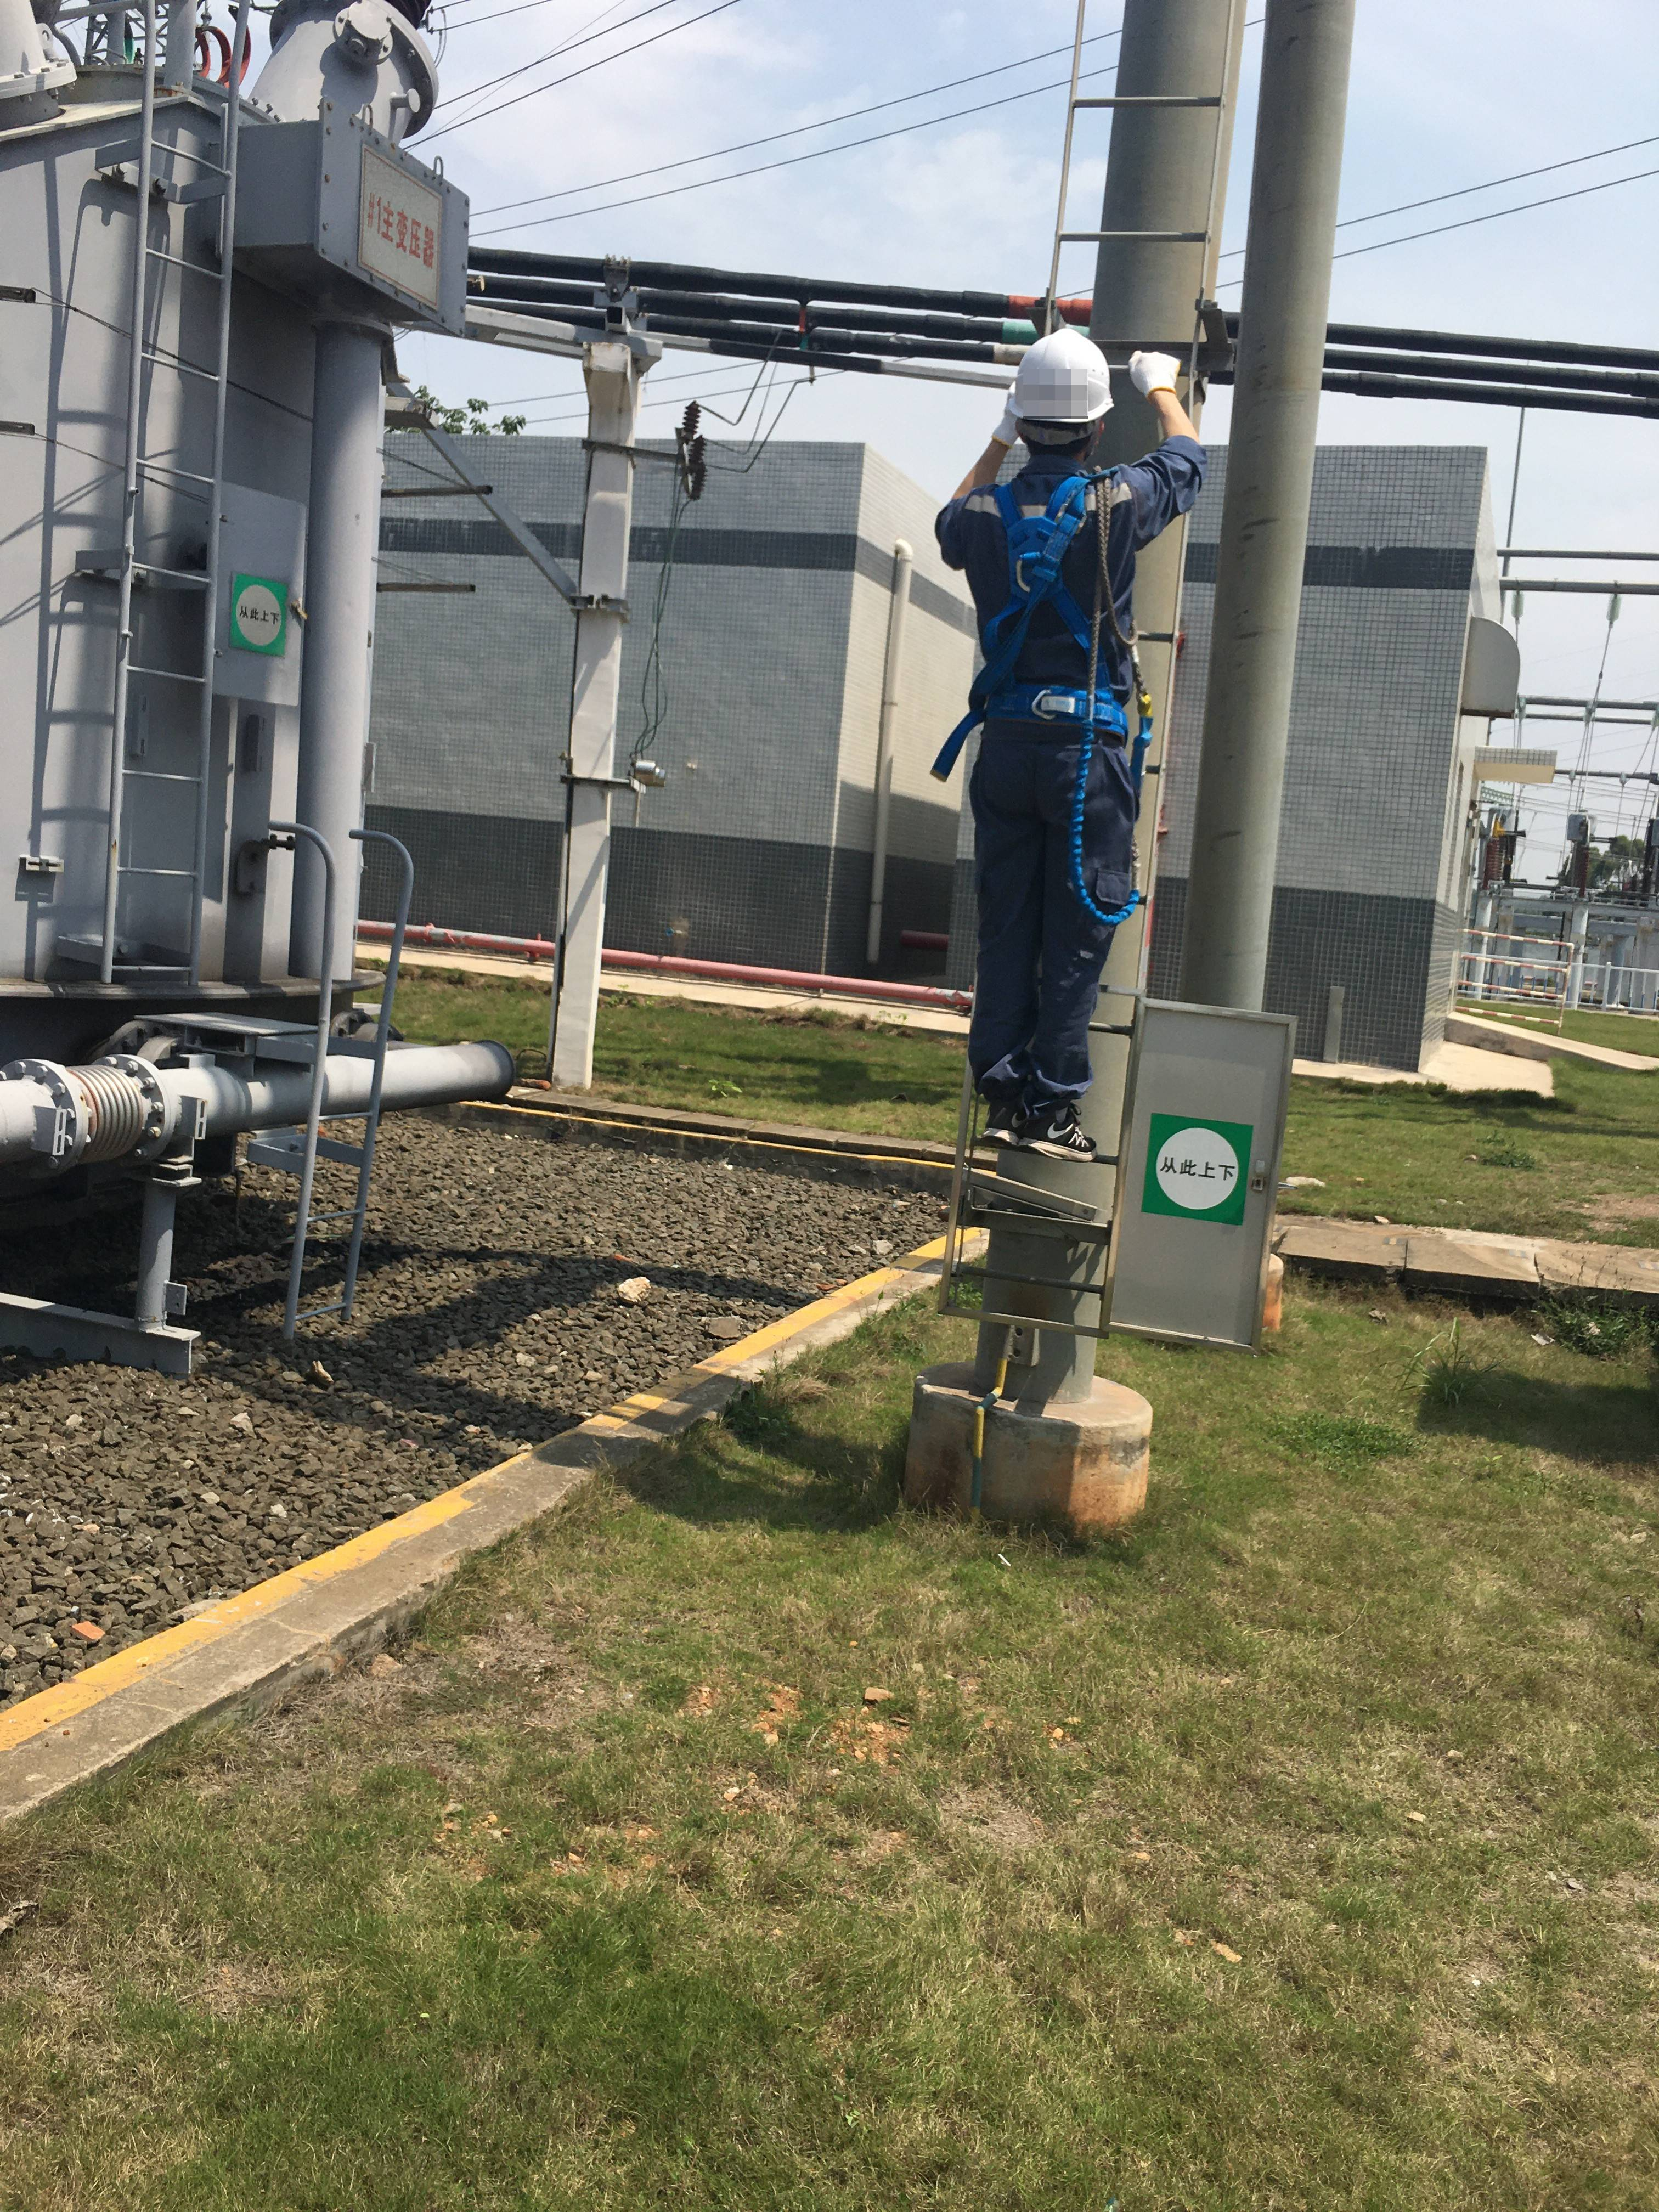downsuit: (951, 745, 1152, 1099)
upsuit: (925, 463, 1159, 700)
wrongtop: (1154, 388, 1209, 479)
